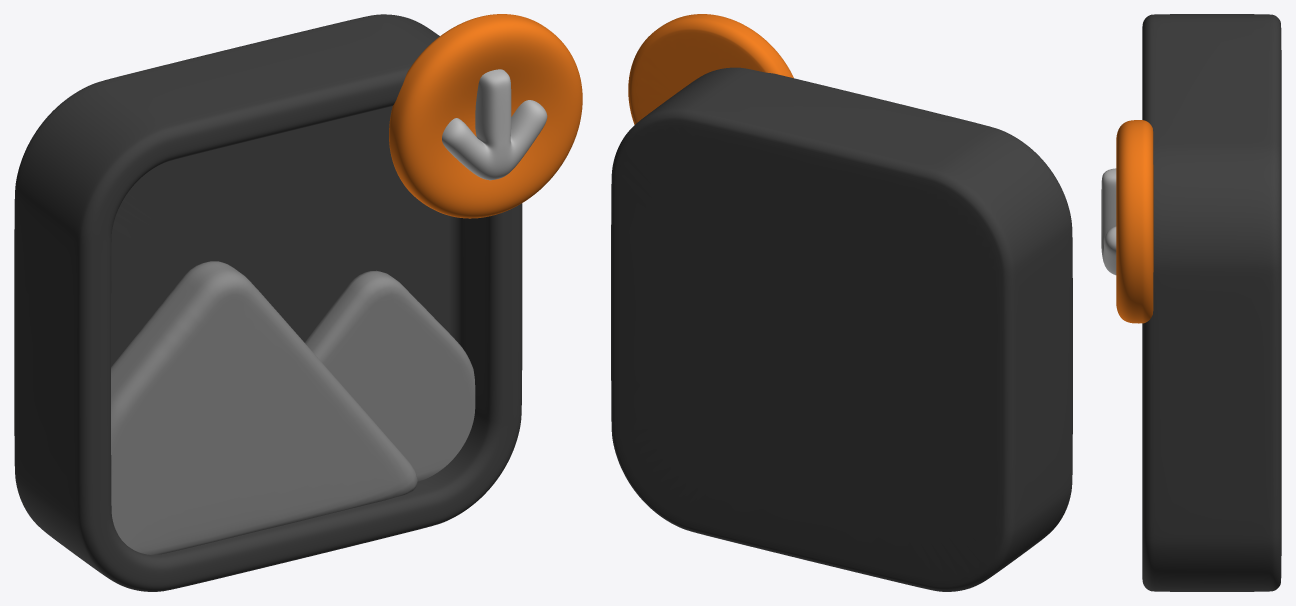
Rendered from download-photo-animated-3d-icon-1555117531231.glb.
3 renders of one model, left to right at view 1: azimuth 30°, elevation 25°; view 2: azimuth 150°, elevation 25°; view 3: azimuth 270°, elevation 25°, orthographic. The views are drawn at different scales.
Parts seen in each view (by area): view 1: Base, Mountain 1, Circle.001, Mountain 2, Arrow Base.005; view 2: Base, Circle.001; view 3: Base, Circle.001, Arrow Base.005.
Boxes of the visible parts, x1,y1,x2,y2 form: Base: (14,14,522,591); Mountain 1: (111,261,417,554); Circle.001: (389,14,582,218); Mountain 2: (305,270,475,481); Arrow Base.005: (442,69,547,180); Base: (611,67,1072,591); Circle.001: (628,14,793,124); Base: (1142,14,1281,591); Circle.001: (1116,120,1153,323); Arrow Base.005: (1101,168,1116,275).
Size of the model in its own units: 2.22 by 2.16 by 0.7415.
